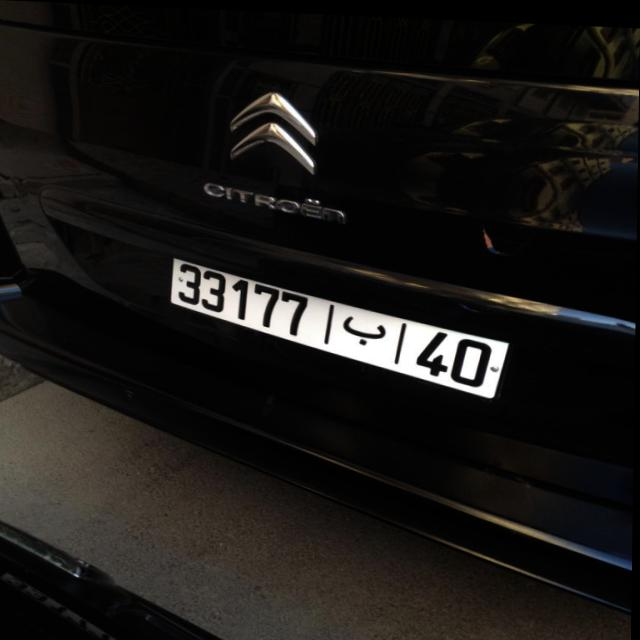License-Plate: (172, 258, 510, 393)
